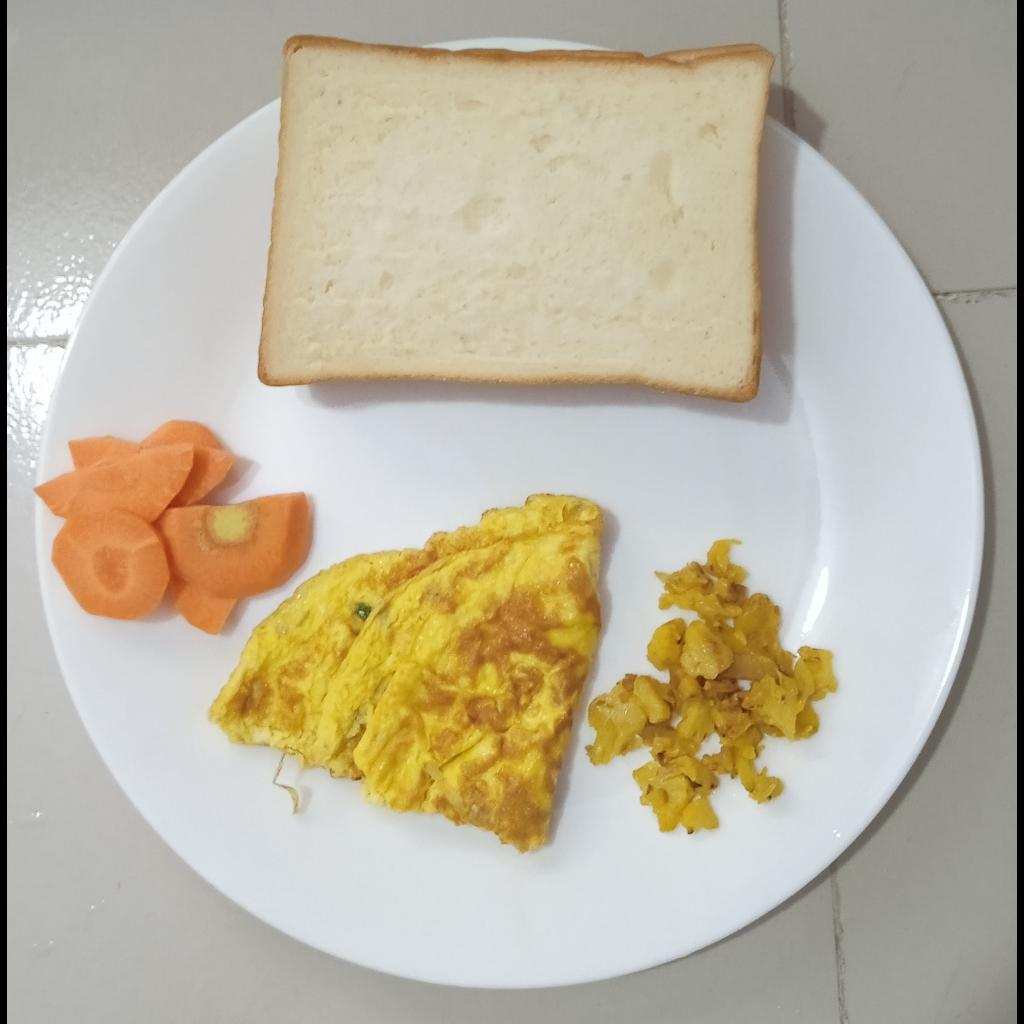bread: (257, 36, 776, 402)
carrot: (34, 419, 310, 637)
cauliflower: (587, 541, 834, 835)
egg-poached: (206, 493, 607, 854)
